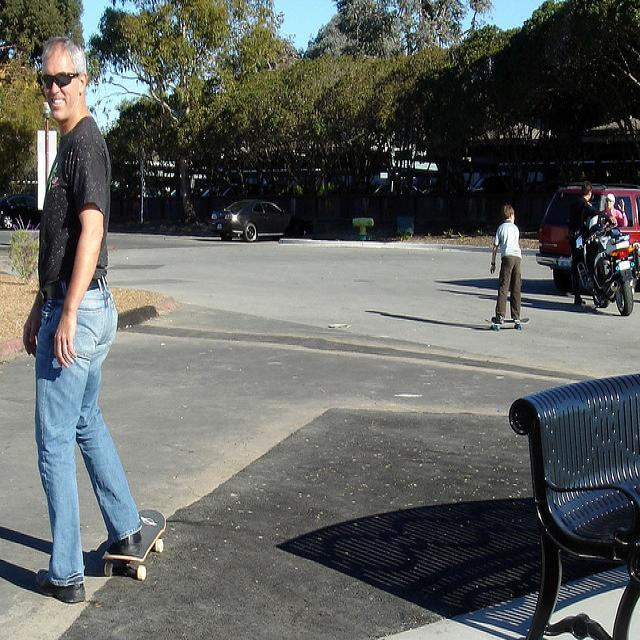motor: (574, 215, 640, 315)
